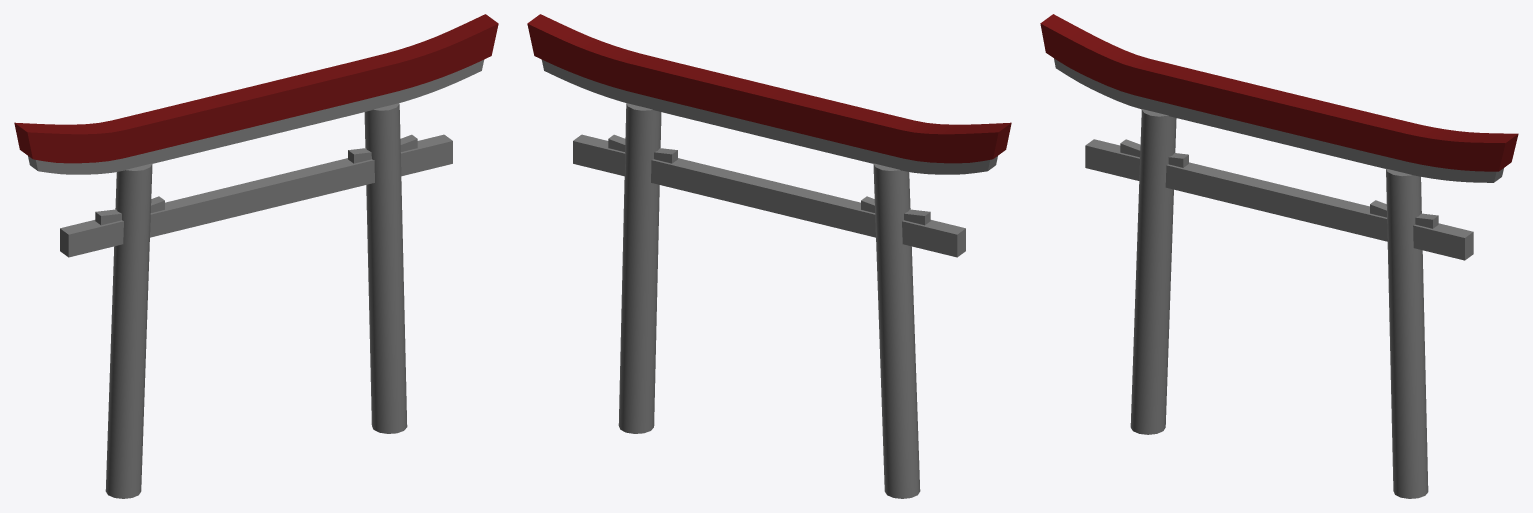
Rendered from SM_toori_gate.fbx.
The picture shows the model from 3 angles, left to right: view 1: azimuth 30°, elevation 25°; view 2: azimuth 150°, elevation 25°; view 3: azimuth 330°, elevation 25°; orthographic projection.
Parts seen in each view (by area): view 1: Cylinder047; view 2: Cylinder047; view 3: Cylinder047.
Part boxes in pixels (<box>): Cylinder047: <box>14,14,498,498</box>; Cylinder047: <box>527,14,1011,498</box>; Cylinder047: <box>1040,14,1518,498</box>.
Size of the model in its own units: 289 by 228 by 18.87.
